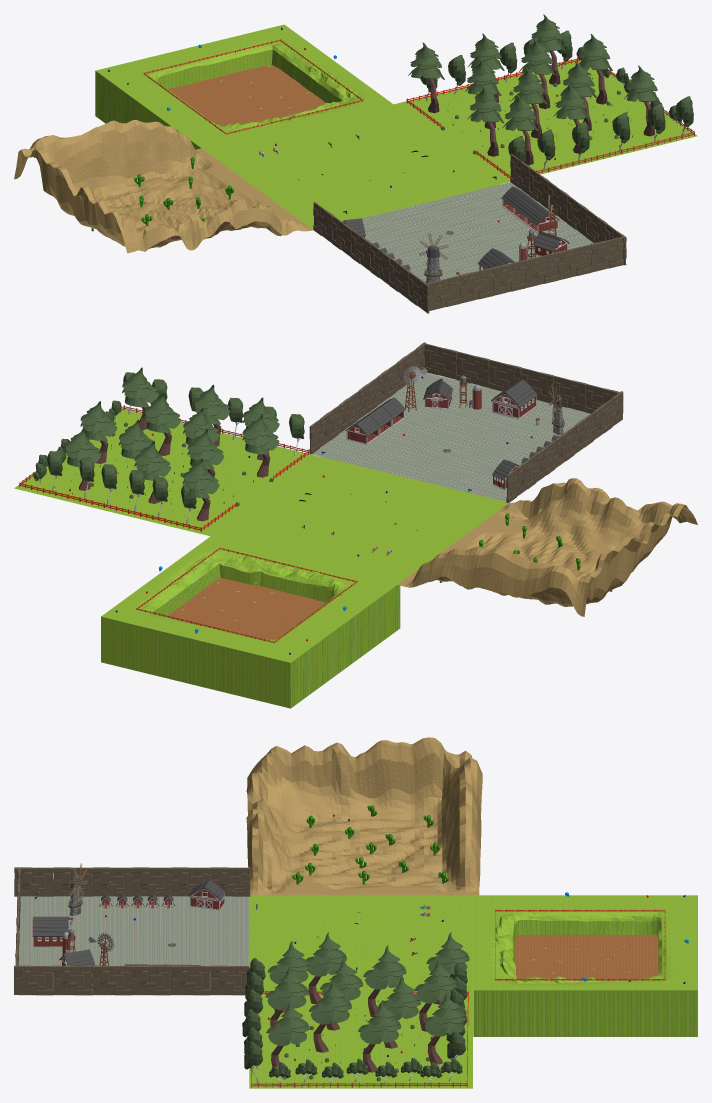
The picture shows the model from 3 angles, top to bottom: view 1: azimuth 30°, elevation 25°; view 2: azimuth 150°, elevation 25°; view 3: azimuth 270°, elevation 25°; orthographic projection. The views are drawn at different scales.
Parts seen in each view (by area): view 1: dessert, ground, lakeGround, forest, village, lake, Wall_Modular_Cube.001, Buildings, Wall_Modular_Cube.005, Wall_Modular_Cube.000, PineTree_4_Cylinder.010, PineTree_4_Cylinder.027 (+11 smaller); view 2: lakeGround, ground, dessert, village, forest, lake, Buildings, Wall_Modular_Cube.001, Wall_Modular_Cube.005, Wall_Modular_Cube.000, PineTree_4_Cylinder.010, PineTree_4_Cylinder.006 (+11 smaller); view 3: dessert, lakeGround, ground, village, forest, Wall_Modular_Cube.000, Wall_Modular_Cube.005, lake, Buildings, PineTree_4_Cylinder.006, PineTree_4_Cylinder.009, PineTree_4_Cylinder.004 (+10 smaller).
Boxes of the visible parts, left/top/right/bottom form: dessert: left=14, top=120, right=312, bottom=253; ground: left=202, top=102, right=500, bottom=229; lakeGround: left=95, top=24, right=393, bottom=149; forest: left=392, top=59, right=697, bottom=184; village: left=322, top=182, right=593, bottom=311; lake: left=167, top=64, right=326, bottom=125; Wall_Modular_Cube.001: left=427, top=236, right=623, bottom=310; Buildings: left=342, top=186, right=569, bottom=283; Wall_Modular_Cube.005: left=313, top=202, right=429, bottom=313; Wall_Modular_Cube.000: left=510, top=154, right=626, bottom=265; PineTree_4_Cylinder.010: left=467, top=86, right=504, bottom=156; PineTree_4_Cylinder.027: left=408, top=42, right=444, bottom=113; lakeGround: left=101, top=536, right=400, bottom=708; ground: left=210, top=457, right=508, bottom=584; dessert: left=397, top=478, right=697, bottom=616; village: left=312, top=373, right=619, bottom=501; forest: left=14, top=409, right=321, bottom=536; lake: left=167, top=577, right=325, bottom=639; Buildings: left=345, top=366, right=564, bottom=489; Wall_Modular_Cube.001: left=424, top=343, right=619, bottom=413; Wall_Modular_Cube.005: left=506, top=391, right=623, bottom=502; Wall_Modular_Cube.000: left=309, top=342, right=426, bottom=454; PineTree_4_Cylinder.010: left=242, top=414, right=279, bottom=477; PineTree_4_Cylinder.006: left=144, top=393, right=180, bottom=455; dessert: left=246, top=737, right=482, bottom=895; lakeGround: left=473, top=895, right=697, bottom=1036; ground: left=249, top=895, right=479, bottom=989; village: left=18, top=896, right=248, bottom=995; forest: left=249, top=989, right=472, bottom=1088; Wall_Modular_Cube.000: left=14, top=965, right=249, bottom=995; Wall_Modular_Cube.005: left=14, top=867, right=250, bottom=896; lake: left=514, top=935, right=658, bottom=979; Buildings: left=32, top=863, right=225, bottom=975; PineTree_4_Cylinder.006: left=309, top=980, right=352, bottom=1052; PineTree_4_Cylinder.009: left=423, top=992, right=466, bottom=1064; PineTree_4_Cylinder.004: left=358, top=1000, right=401, bottom=1072.
Size of the model in its own units: 303 by 56.03 by 304.
Materials: 532 (20 with a texture image).
